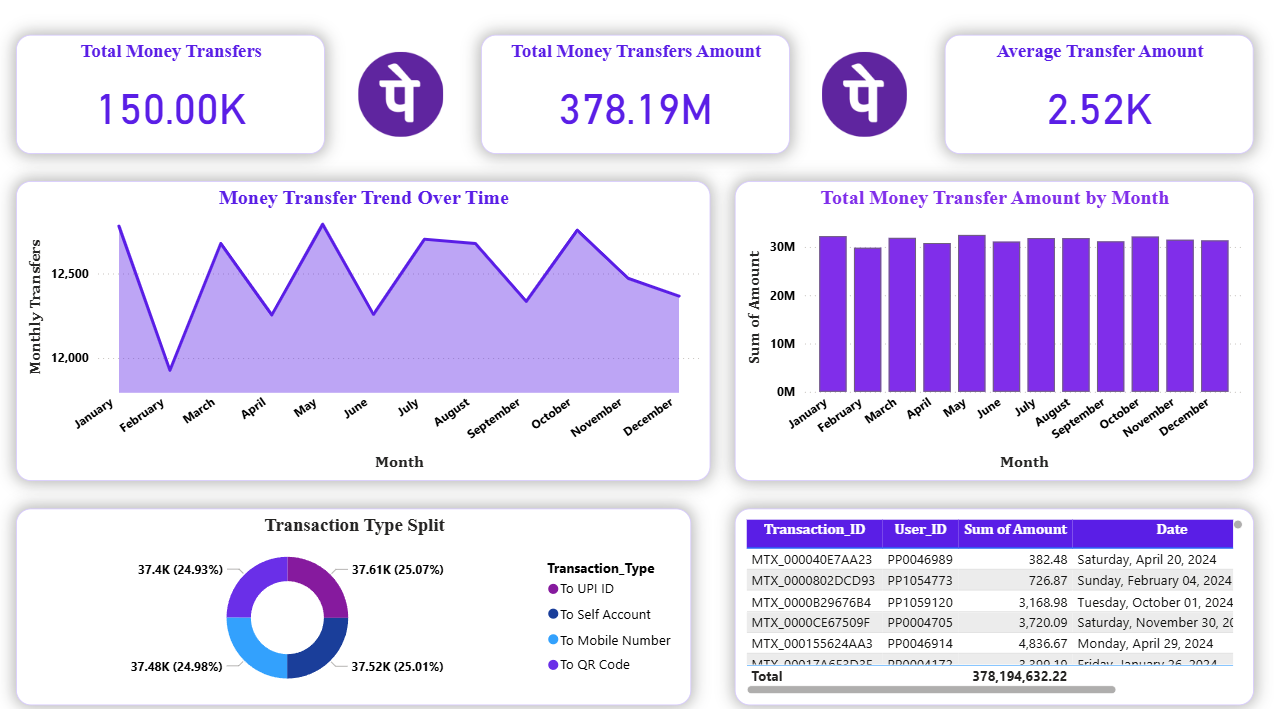

The page's visual inventory and layout, read from the dashboard file:
{"tool":"powerbi","page":{"name":"Page 3","canvas":[1280,720],"ordinal":2},"visuals":[{"type":"card","title":"Total Money Transfers Amount","fields":{"Values":["Sum(Money_Transfer.Amount)"]},"box":[485.5,39.1,308.7,118.8],"z":0},{"type":"card","title":"Total Money Transfers","fields":{"Values":["CountNonNull(Money_Transfer.Amount)"]},"box":[20.3,39.1,308.7,118.8],"z":1000},{"type":"card","title":"Average Transfer Amount","fields":{"Values":["Avg(Money_Transfer.Amount)"]},"box":[949.3,39.1,308.7,118.8],"z":2000},{"type":"lineChart","title":"Money Transfer Trend Over Time","fields":{"Category":["Money_Transfer.Date.Variation.Date Hierarchy.Month","Money_Transfer.Date.Variation.Date Hierarchy.Day"],"Y":["CountNonNull(Money_Transfer.Transaction_ID)"]},"box":[20.3,185.5,694.2,300],"z":3000},{"type":"clusteredColumnChart","title":"Total Money Transfer Amount by Month","fields":{"Y":["Sum(Money_Transfer.Amount)"],"Category":["Money_Transfer.Date.Variation.Date Hierarchy.Month"]},"box":[739.1,185.5,518.8,300],"z":4000},{"type":"donutChart","title":"Transaction Type Split","fields":{"Category":["Money_Transfer.Transfer_Type"],"Y":["CountNonNull(Money_Transfer.Transaction_ID)"]},"box":[20.3,513,675.4,197.1],"z":5000},{"type":"tableEx","fields":{"Values":["Money_Transfer.Transaction_ID","Money_Transfer.User_ID","Sum(Money_Transfer.Amount)","Money_Transfer.Date","Money_Transfer.Payment_Status"]},"box":[739.1,513,518.8,197.1],"z":6000},{"type":"image","box":[358,49.3,94.2,98.6],"z":7000},{"type":"image","box":[821.7,49.3,94.2,98.6],"z":8000}]}

Visuals, with their boxes in screenshot pixels (x1, y1, x2, y2), scaled from the page's 1280x720 canvas onto the 1274x709 screenshot:
"Total Money Transfers Amount" card: rect(483, 39, 790, 155)
"Total Money Transfers" card: rect(20, 39, 327, 155)
"Average Transfer Amount" card: rect(945, 39, 1252, 155)
"Money Transfer Trend Over Time" lineChart: rect(20, 183, 711, 478)
"Total Money Transfer Amount by Month" clusteredColumnChart: rect(736, 183, 1252, 478)
"Transaction Type Split" donutChart: rect(20, 505, 692, 699)
tableEx - Money_Transfer.Transaction_ID x Money_Transfer.User_ID: rect(736, 505, 1252, 699)
image: rect(356, 49, 450, 146)
image: rect(818, 49, 912, 146)
